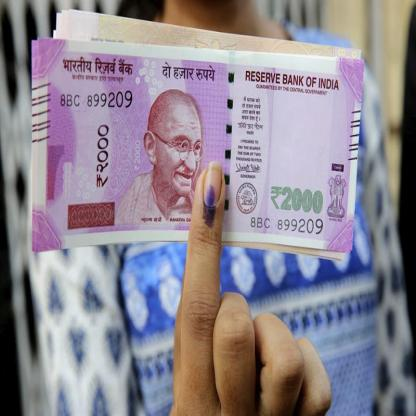billete: (29, 8, 363, 262)
